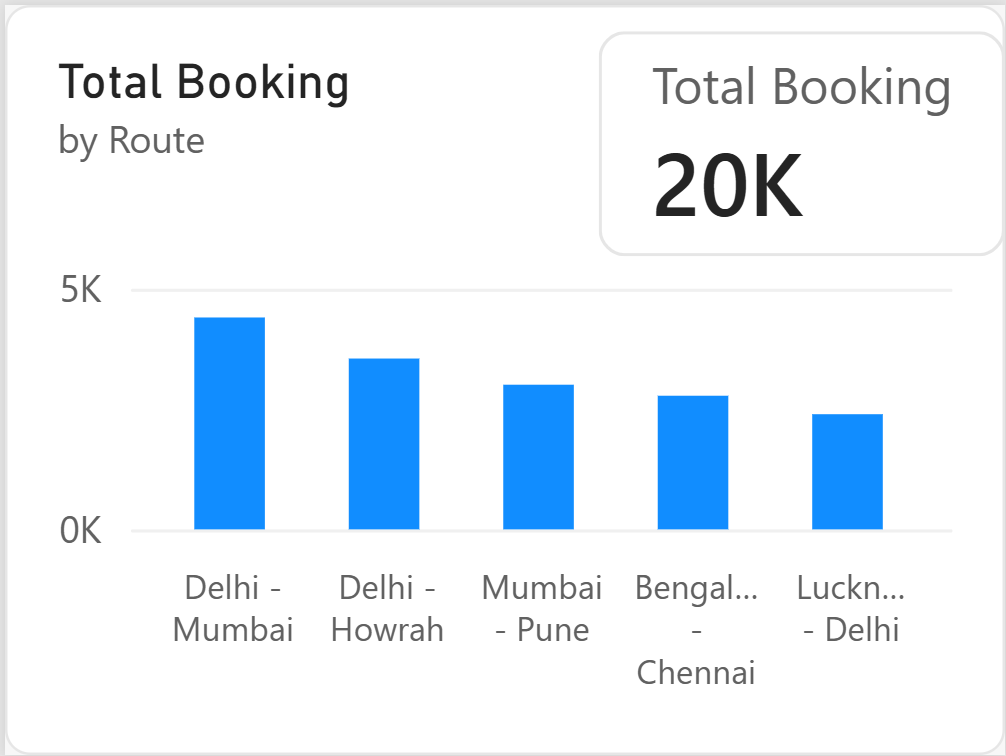

What the dashboard file says about the page in this screenshot:
{"tool":"powerbi","page":{"name":"Tooltip 3","canvas":[320,240],"ordinal":3},"visuals":[{"type":"columnChart","fields":{"Category":["IRCTC_DATA.Route"],"Y":["All Measures.Total Booking"]},"box":[0,0,320,240],"z":0},{"type":"cardVisual","fields":{"Data":["All Measures.Total Booking"]},"box":[189.8,8.3,130.6,72.2],"z":1000}]}

Visuals, with their boxes in screenshot pixels (x1, y1, x2, y2), scaled from the page's 320x240 canvas onto the 1006x756 screenshot:
columnChart - IRCTC_DATA.Route x All Measures.Total Booking: bbox=[0, 0, 1005, 755]
cardVisual - All Measures.Total Booking: bbox=[597, 26, 1005, 254]
